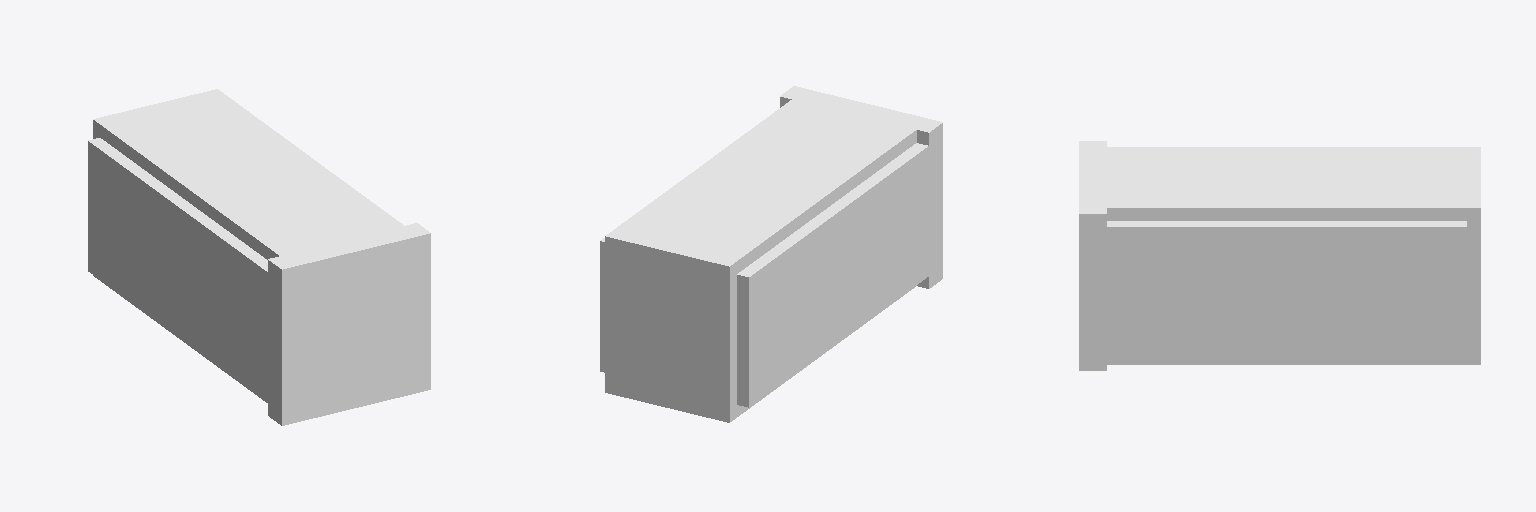
The model's file is FkashLight.obj.
3 renders of one model, left to right at view 1: azimuth 30°, elevation 25°; view 2: azimuth 150°, elevation 25°; view 3: azimuth 270°, elevation 25°, orthographic.
Parts seen in each view (by area): view 1: object 1; view 2: object 1; view 3: object 1.
Boxes of the visible parts, x1=… form: object 1: x1=88, y1=89, x2=430, y2=425; object 1: x1=600, y1=86, x2=942, y2=422; object 1: x1=1079, y1=141, x2=1480, y2=370.
Size of the model in its own units: 1.2 by 1.2 by 2.8.